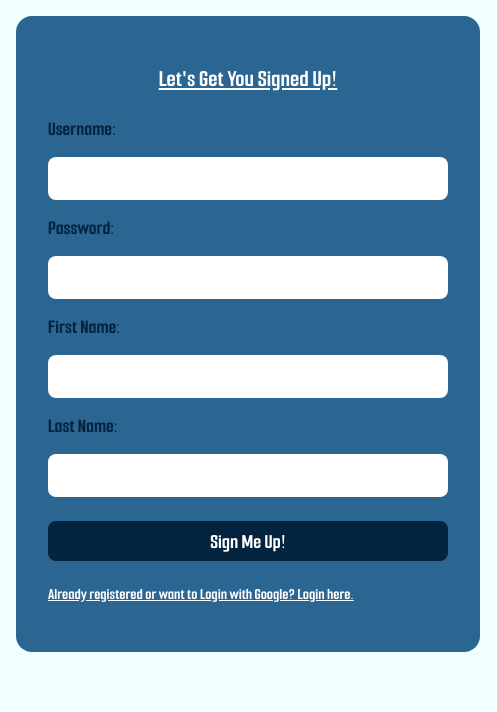
Test case: handleSubmit › for !response.ok with 500 API errors renders error message
Type "usernameMe" into the field labelled "Username:" at x=248, y=178, box [48,157,448,200]
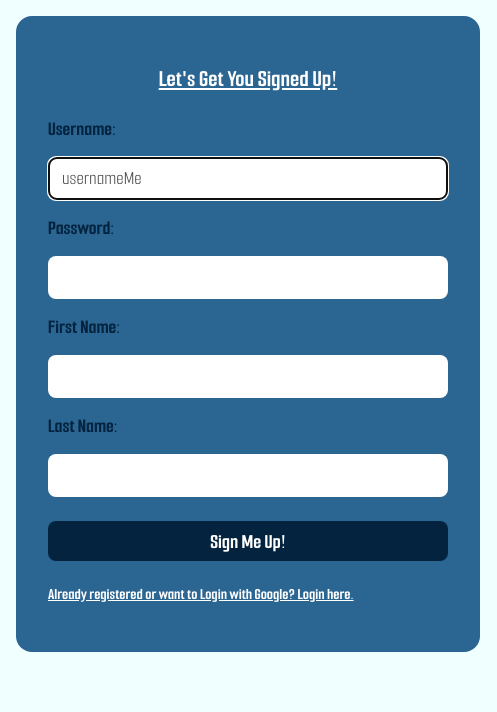
Type "Password123!" into the password field labelled "Password:" at x=248, y=278, box [48,256,448,299]
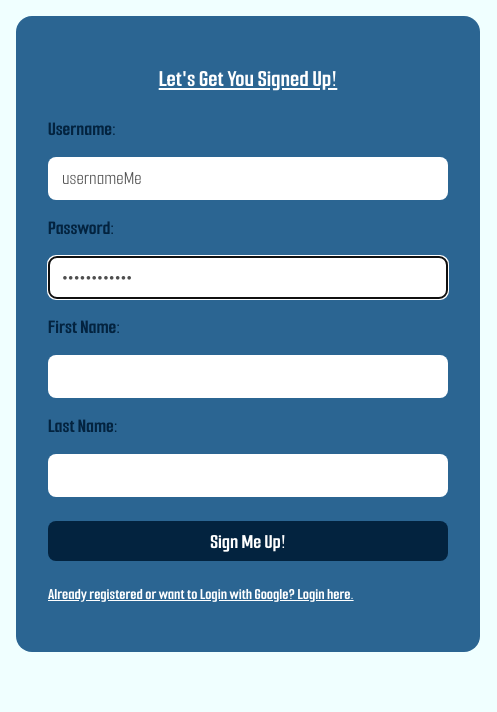
Type "Lottie" into the field labelled "First Name:" at x=248, y=376, box [48,355,448,398]
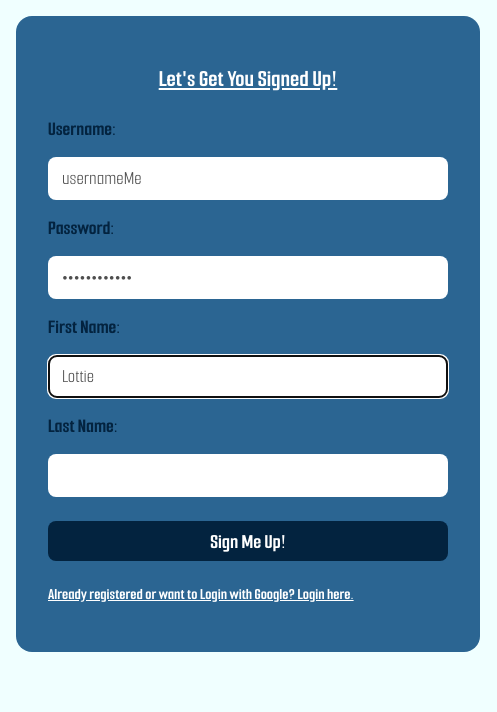
Type "Orton" into the field labelled "Last Name:" at x=248, y=476, box [48,454,448,497]
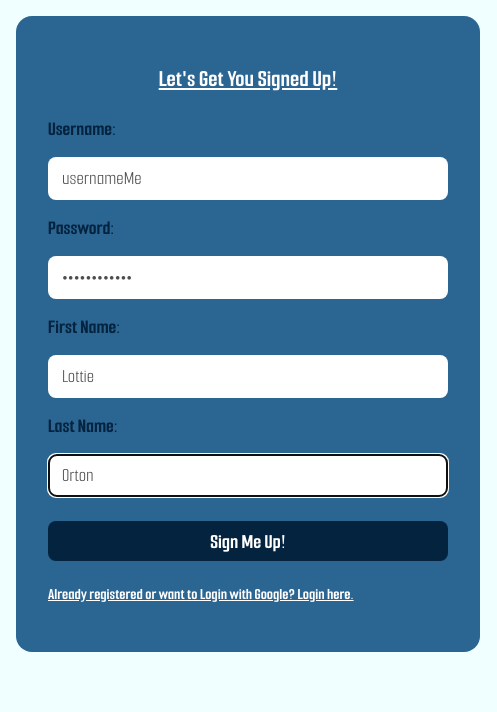
Click the button "Sign Me Up!" at x=248, y=541, box [48,521,448,561]
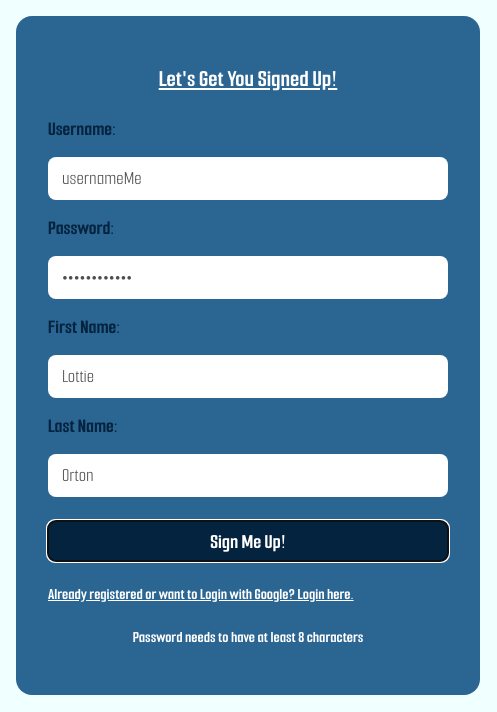
Expected: the text "Password needs to have at least 8 characters" is shown, [133,628,363,647]
